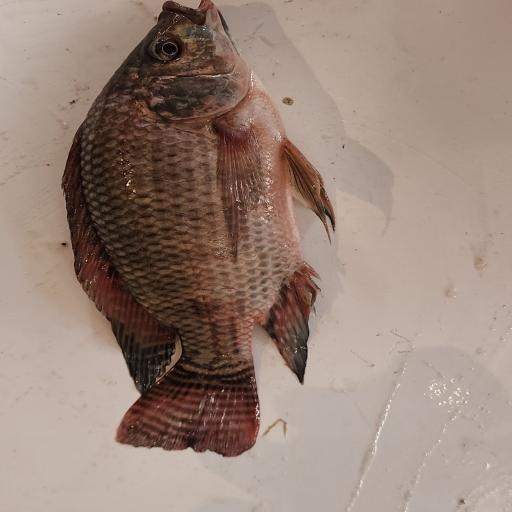Tilapia: (61, 0, 336, 457)
